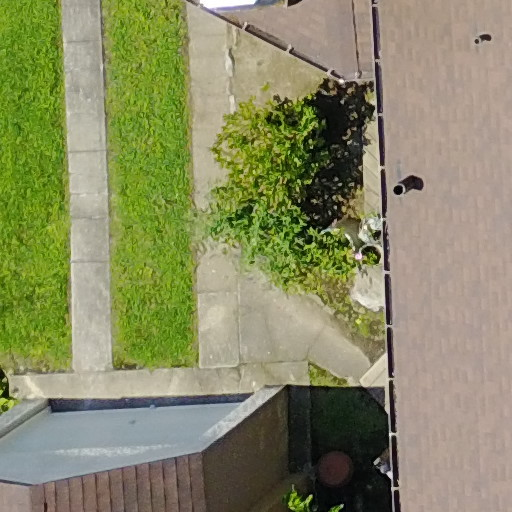flower pot: (357, 237, 381, 274)
